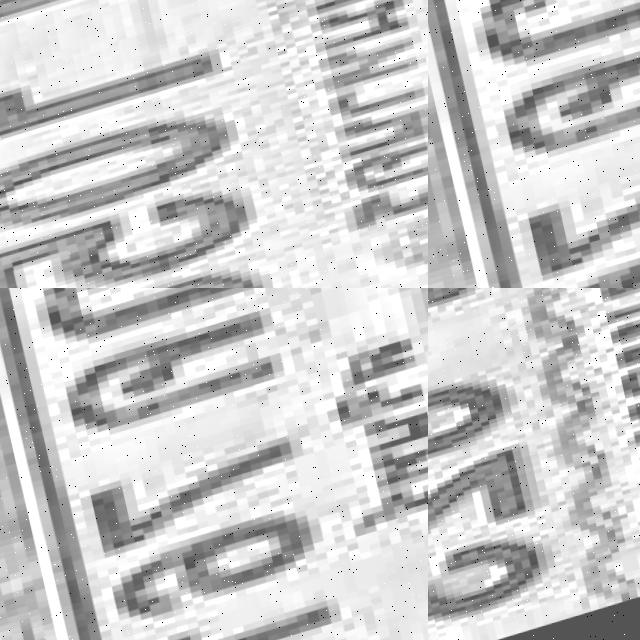license-plate: (0, 288, 428, 640), (0, 0, 428, 288), (428, 288, 640, 640), (428, 0, 640, 288)
